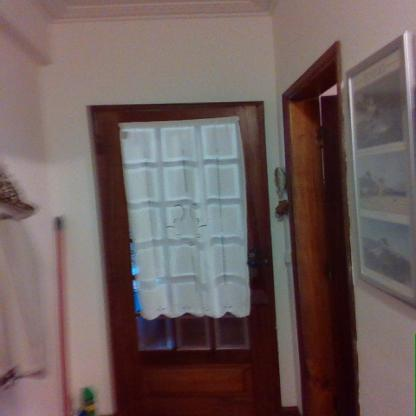closed: (68, 87, 290, 408)
